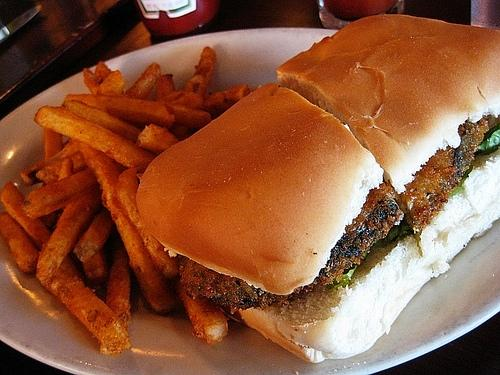lettuce: (473, 124, 499, 156), (371, 223, 402, 249), (450, 165, 474, 198)
